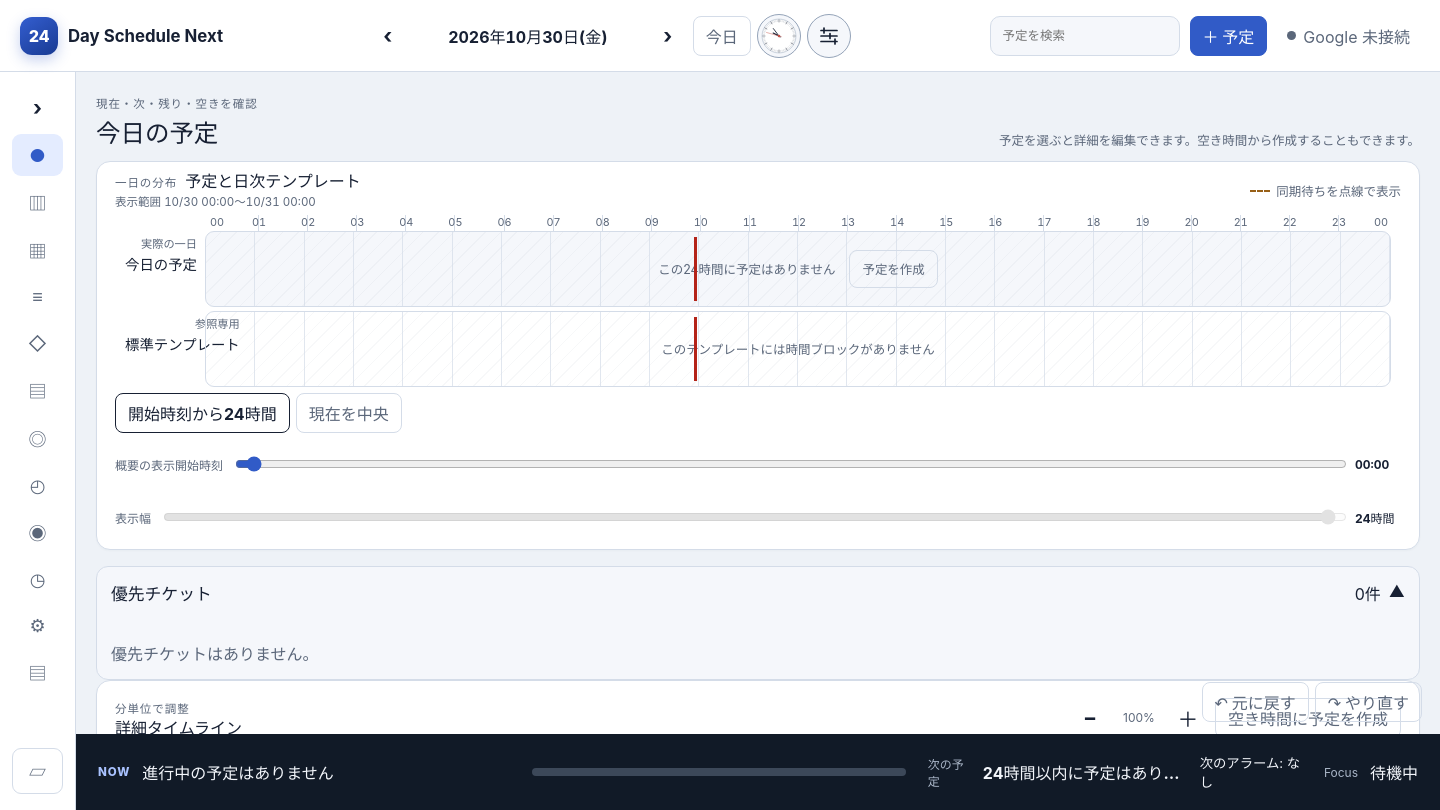
Test: App time-tool navigation › reports a template selection persistence failure instead of implying it was saved
Click the button named "テンプレート" at [38, 343], box [12, 322, 63, 364]
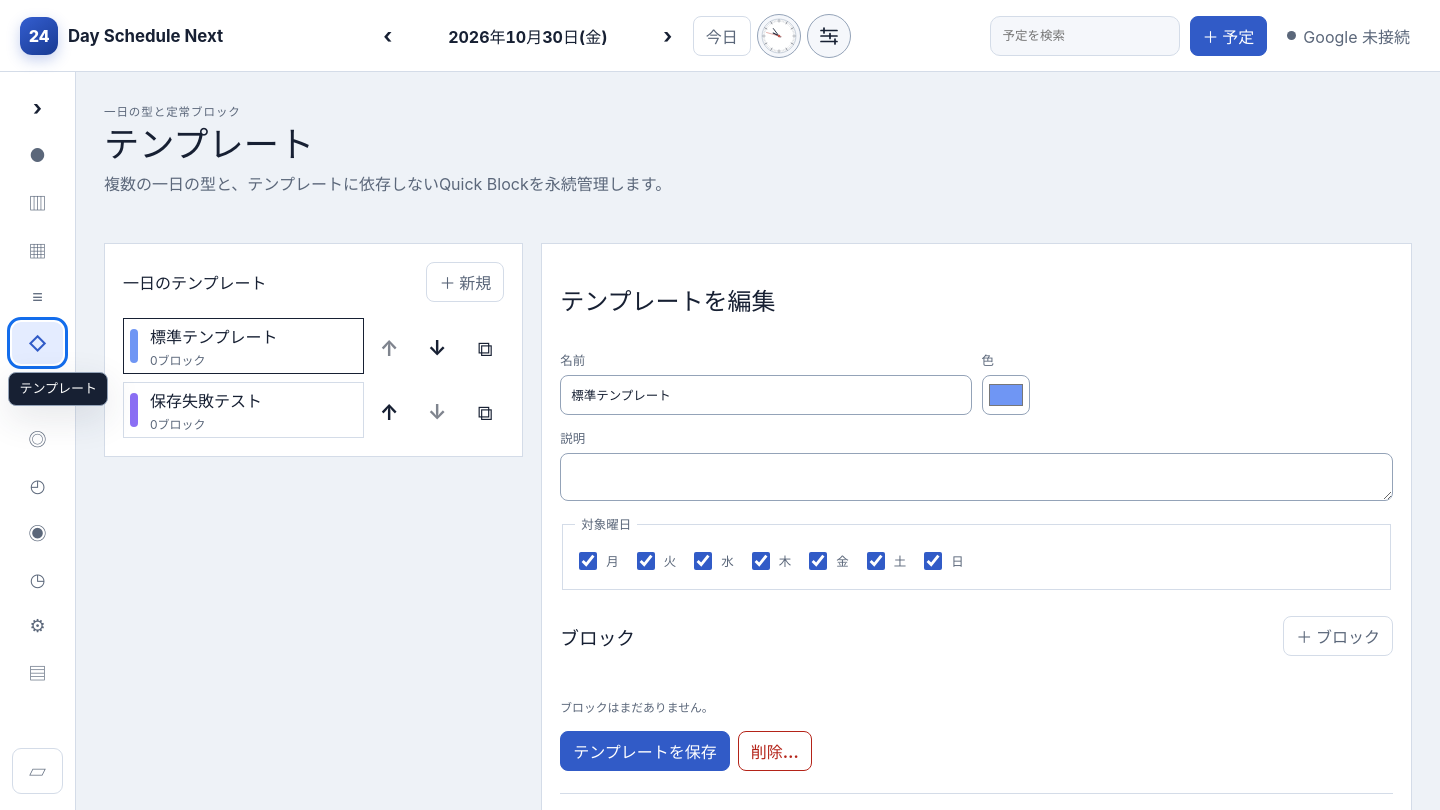
Click the button "保存失敗テスト 0ブロック" at [244, 410], box [123, 382, 364, 438]
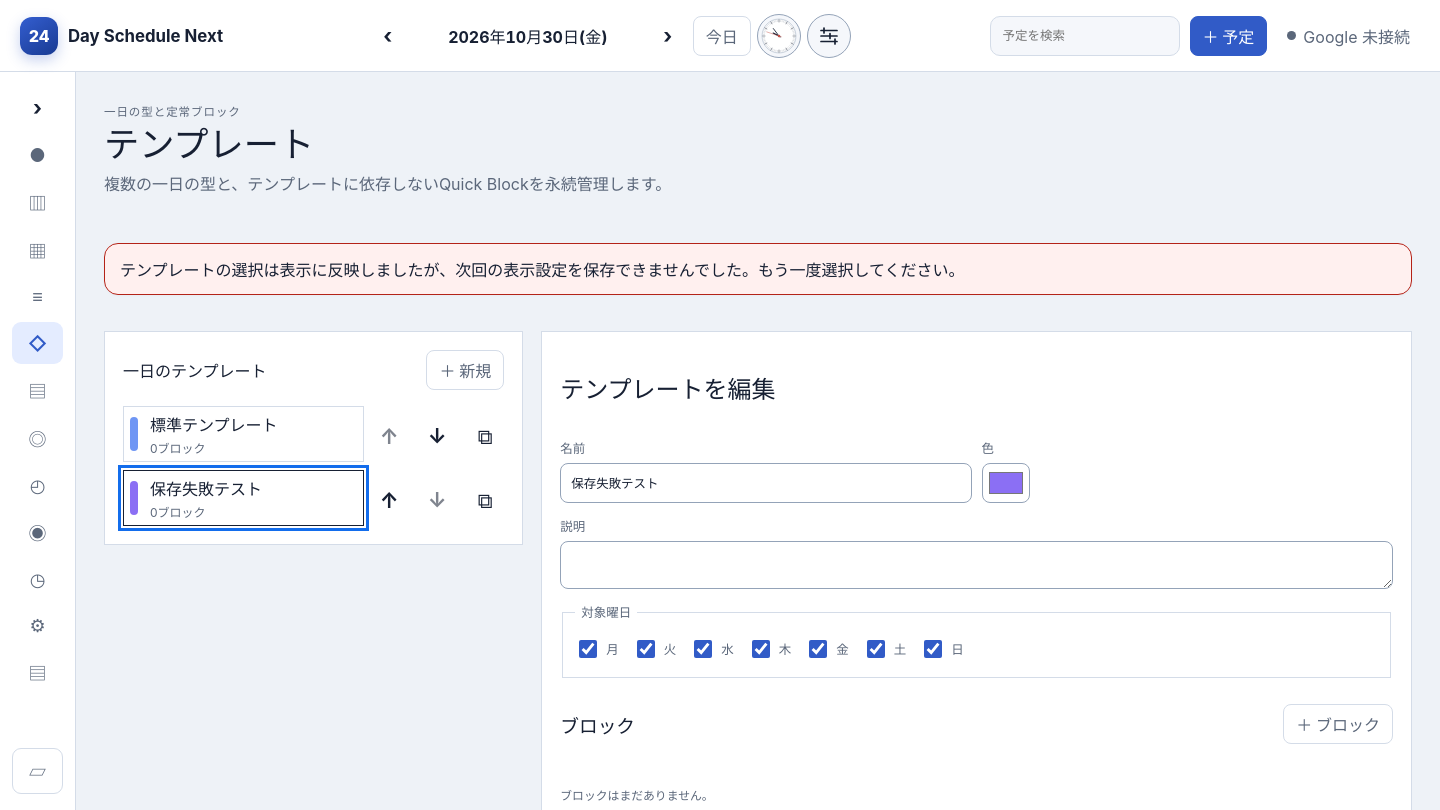
Now the text "テンプレートの選択は表示に反映しましたが、次回の表示設定を保存できませんでした。もう一度選択してください。" is shown, box [120, 260, 964, 280]
